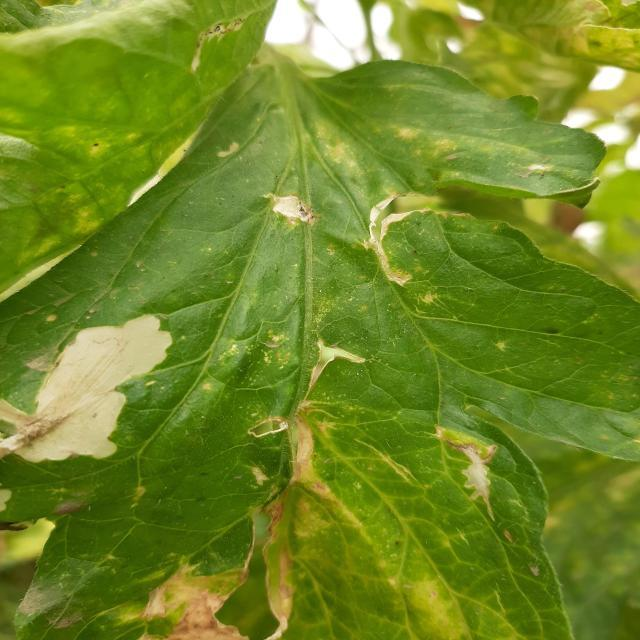Tuta absoluta: (0, 288, 205, 510), (432, 405, 527, 525), (141, 566, 247, 640), (362, 195, 419, 286), (307, 338, 369, 406), (267, 186, 319, 233), (292, 413, 315, 484)
